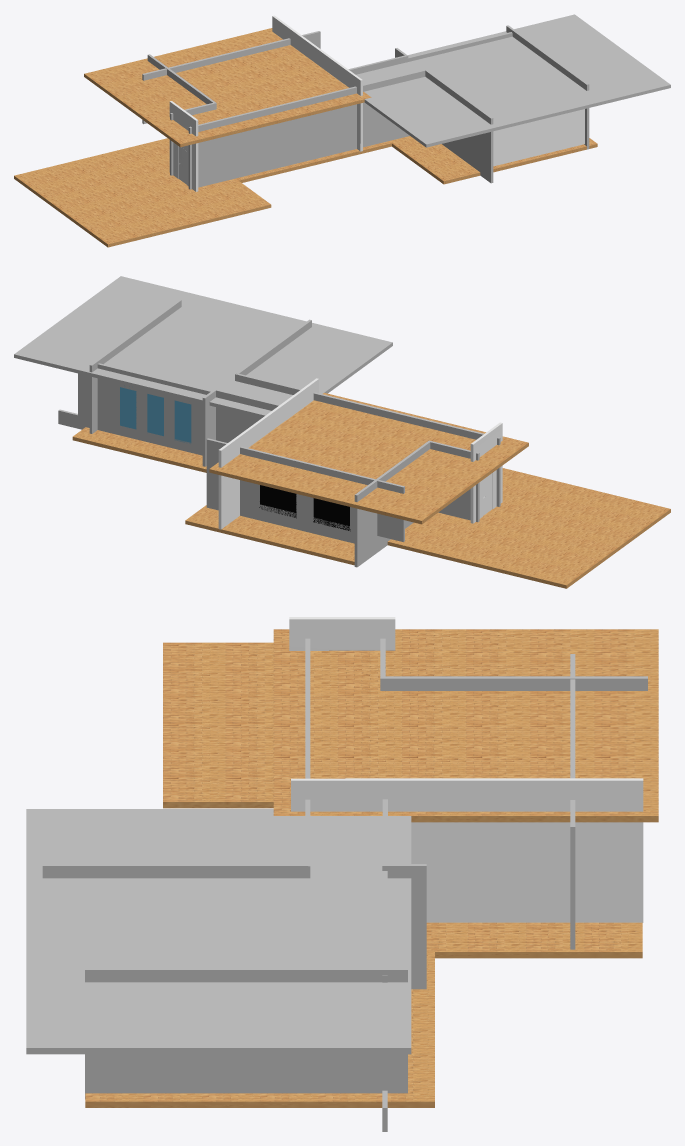
File: HouseStruc.fbx
The picture shows the model from 3 angles, top to bottom: view 1: azimuth 30°, elevation 25°; view 2: azimuth 150°, elevation 25°; view 3: azimuth 270°, elevation 25°; orthographic projection. The views are drawn at different scales.
Parts seen in each view (by area): view 1: Roof_1, Roof, Entrance_Floor, Right_Wall, Right_Wall__1_, Main_Floor_1, Behind_Big_Wall__1_, Puerta_abierta, Puerta_cerrada, Main_Floor, Behind_Big_Wall__2_, Left_Big_Wall_5 (+6 smaller); view 2: Roof_1, Roof, Entrance_Floor, Main_Floor, Puerta_abierta, Main_Floor_1, Behind_Big_Wall, Left_Big_Wall_1, Right_Wall, Puerta_cerrada, Left_Big_Wall_1_1, Left_Entrance_Wall_1 (+17 smaller); view 3: Roof_1, Roof, Puerta_abierta, Entrance_Floor, Behind_Big_Wall__2_, Main_Floor_1, Main_Floor, Behind_Big_Wall__1_, Behind_Big_Wall, Puerta_cerrada, Behind_Big_Wall_1, Right_Wall (+1 smaller).
Part boxes in pixels (x1,y1,x2,y2): Roof_1: (330, 14, 670, 147); Roof: (84, 28, 371, 147); Entrance_Floor: (14, 138, 271, 247); Right_Wall: (188, 78, 389, 189); Right_Wall__1_: (493, 109, 584, 166); Main_Floor_1: (390, 136, 597, 184); Behind_Big_Wall__1_: (425, 69, 493, 183); Puerta_abierta: (272, 15, 362, 151); Puerta_cerrada: (169, 101, 198, 191); Main_Floor: (236, 141, 391, 182); Behind_Big_Wall__2_: (506, 25, 589, 149); Left_Big_Wall_5: (188, 42, 274, 69); Roof_1: (14, 276, 392, 420); Roof: (209, 393, 528, 524); Entrance_Floor: (387, 468, 670, 588); Main_Floor: (185, 505, 354, 565); Puerta_abierta: (218, 378, 318, 529); Main_Floor_1: (72, 427, 206, 472); Behind_Big_Wall: (354, 441, 430, 567); Left_Big_Wall_1: (206, 491, 354, 543); Right_Wall: (278, 383, 500, 506); Puerta_cerrada: (470, 422, 502, 523); Left_Big_Wall_1_1: (58, 409, 202, 455); Left_Entrance_Wall_1: (216, 389, 279, 442); Roof_1: (26, 809, 411, 1054); Roof: (273, 629, 658, 822); Puerta_abierta: (291, 778, 643, 922); Entrance_Floor: (163, 642, 273, 808); Behind_Big_Wall__2_: (85, 968, 407, 1099); Main_Floor_1: (85, 951, 434, 1107); Main_Floor: (426, 922, 642, 958); Behind_Big_Wall__1_: (42, 864, 308, 878); Behind_Big_Wall: (382, 676, 647, 690); Puerta_cerrada: (289, 617, 395, 650); Behind_Big_Wall_1: (382, 864, 426, 989); Right_Wall: (305, 638, 310, 828).
Size of the model in its own units: 3493 by 469 by 1807.
